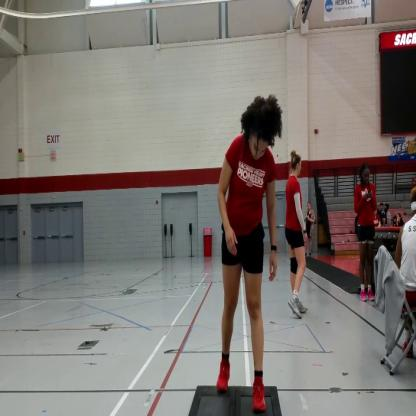lateral_flexion_left: (214, 91, 278, 416)
stance_width_normal: (216, 132, 277, 416)
